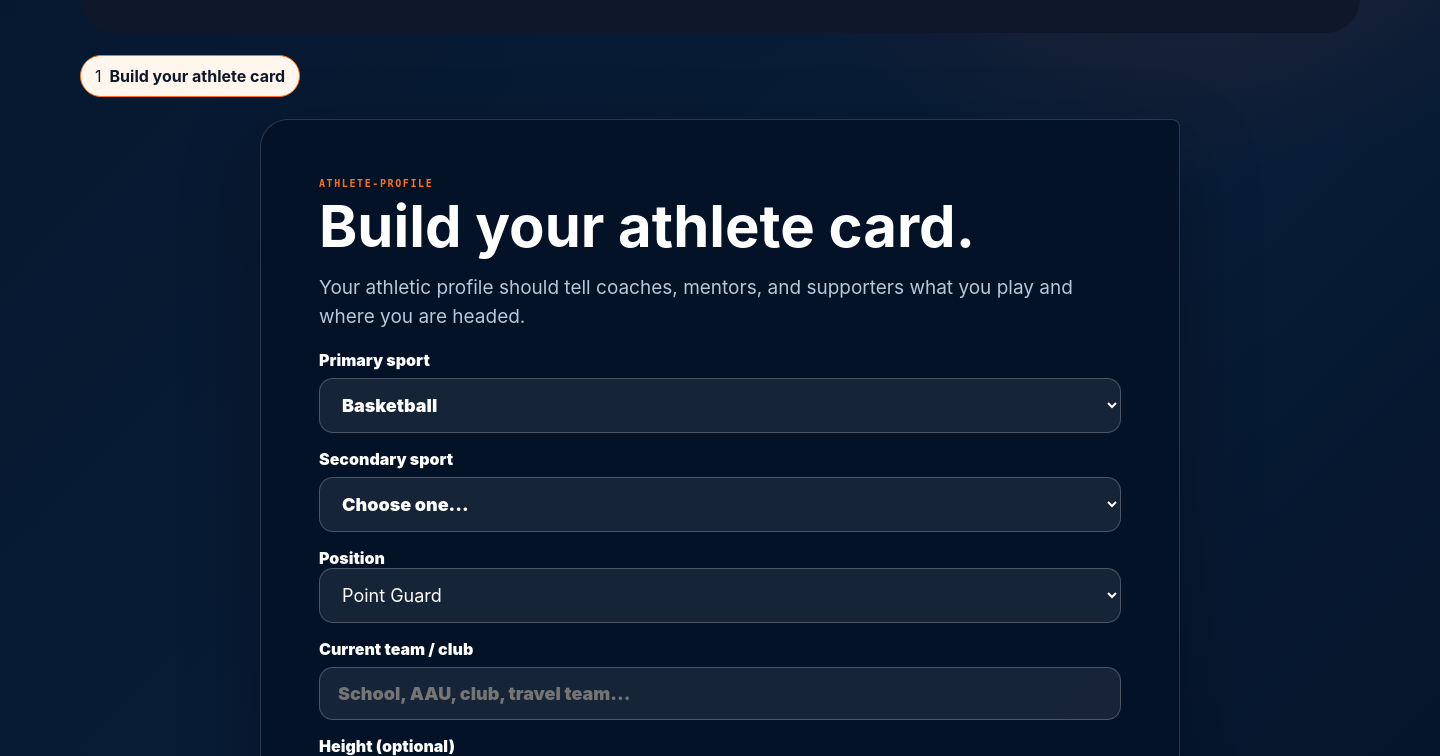
Test: clears an incompatible position only on an explicit sport change
(page scrolled)
Expected: the dropdown labelled "Position" shows "Point Guard", [319,568,1121,623]
Select "Volleyball" in the dropdown labelled "Primary sport": (720, 406) [319,378,1121,433]
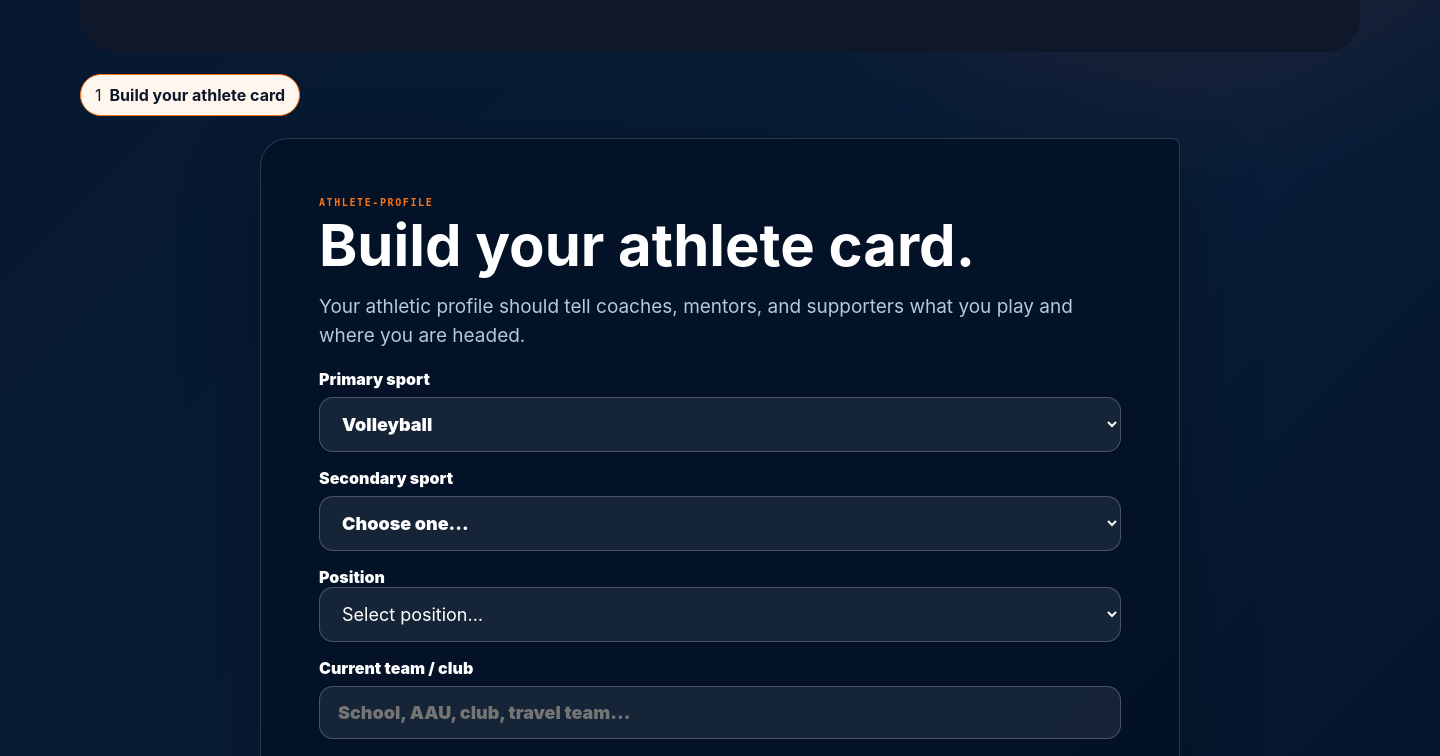
Expected: the option "Point Guard" is not shown
Expected: the dropdown labelled "Position" shows "Select position…", [319,587,1121,642]
